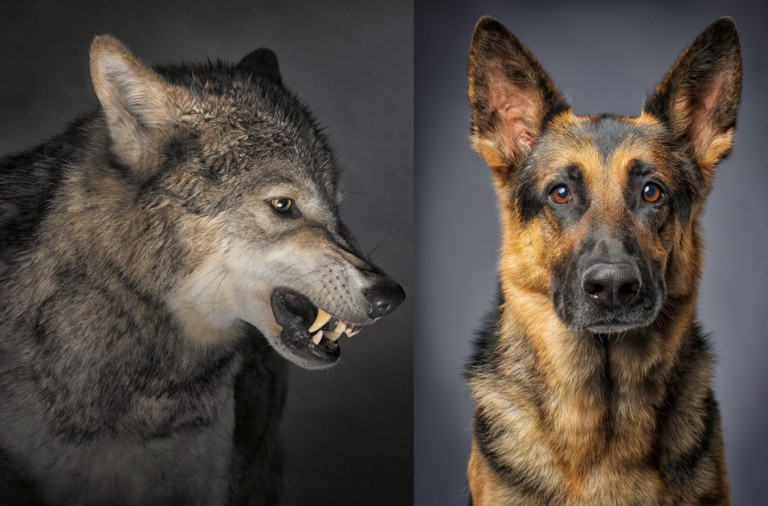Lobo: (24, 27, 400, 451)
